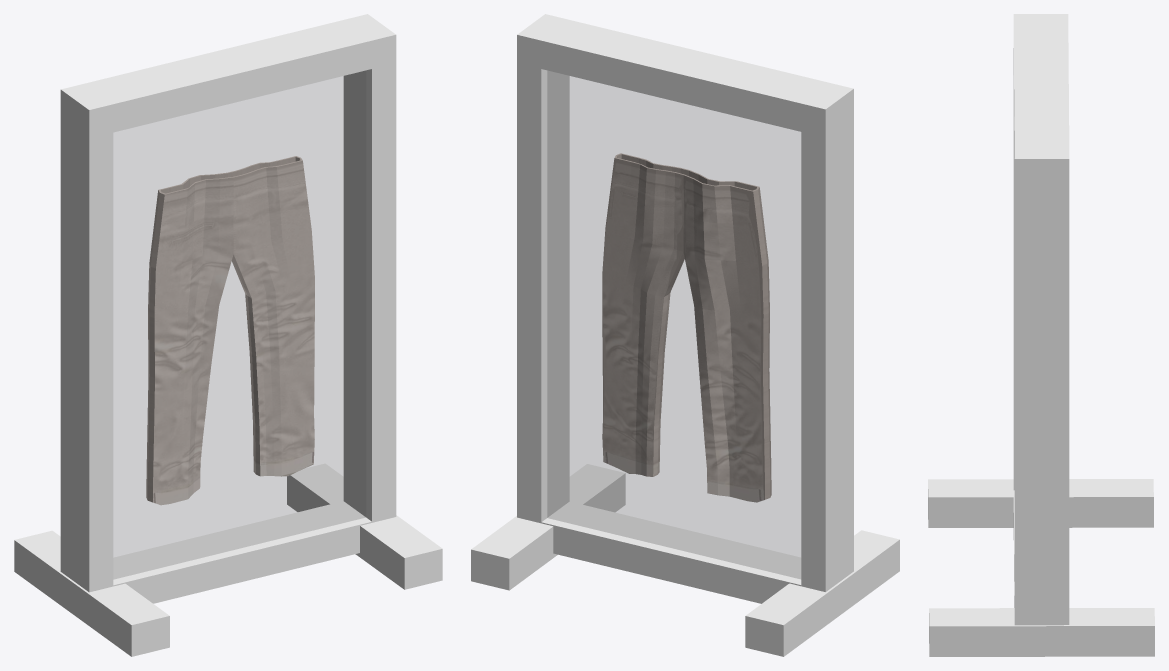
File: chino_cream.gltf
The picture shows the model from 3 angles, left to right: view 1: azimuth 30°, elevation 25°; view 2: azimuth 150°, elevation 25°; view 3: azimuth 270°, elevation 25°; orthographic projection. The views are drawn at different scales.
Parts seen in each view (by area): view 1: Cube.049, Plane.003; view 2: Cube.049, Plane.003; view 3: Cube.049.
Part boxes in pixels (left/top/right/bottom): Cube.049: left=14, top=14, right=442, bottom=656; Plane.003: left=146, top=156, right=314, bottom=505; Cube.049: left=471, top=14, right=899, bottom=656; Plane.003: left=602, top=153, right=771, bottom=502; Cube.049: left=928, top=14, right=1154, bottom=656.
Bounding box in the file's own units: 0.4471 × 0.7029 × 0.2909.
4 materials, 1 textured.
